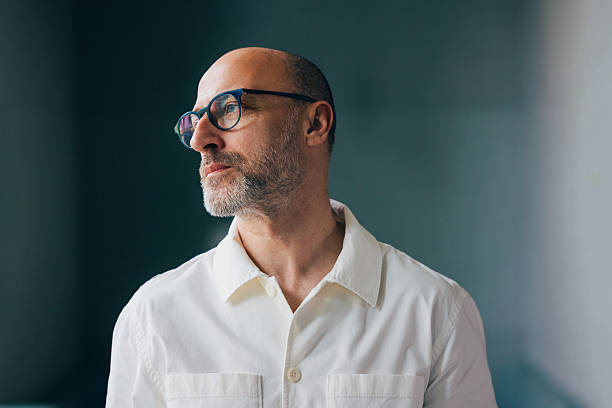Male: (96, 42, 496, 407)
